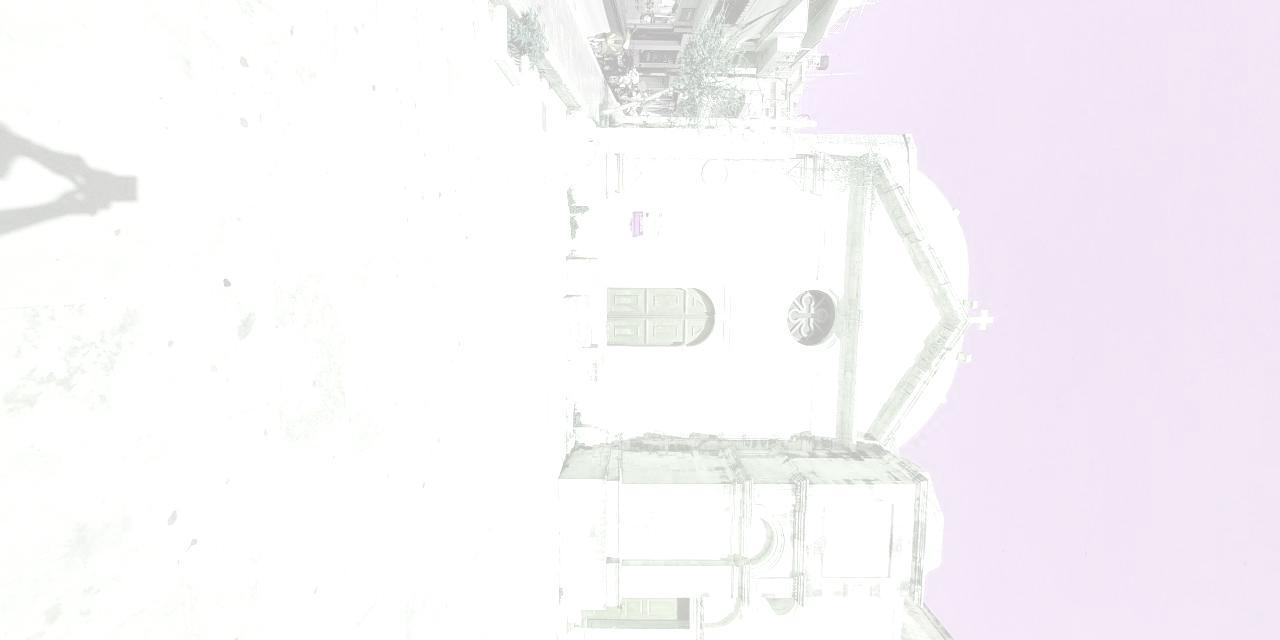Agia Aikaterini: (705, 1, 1161, 334)
